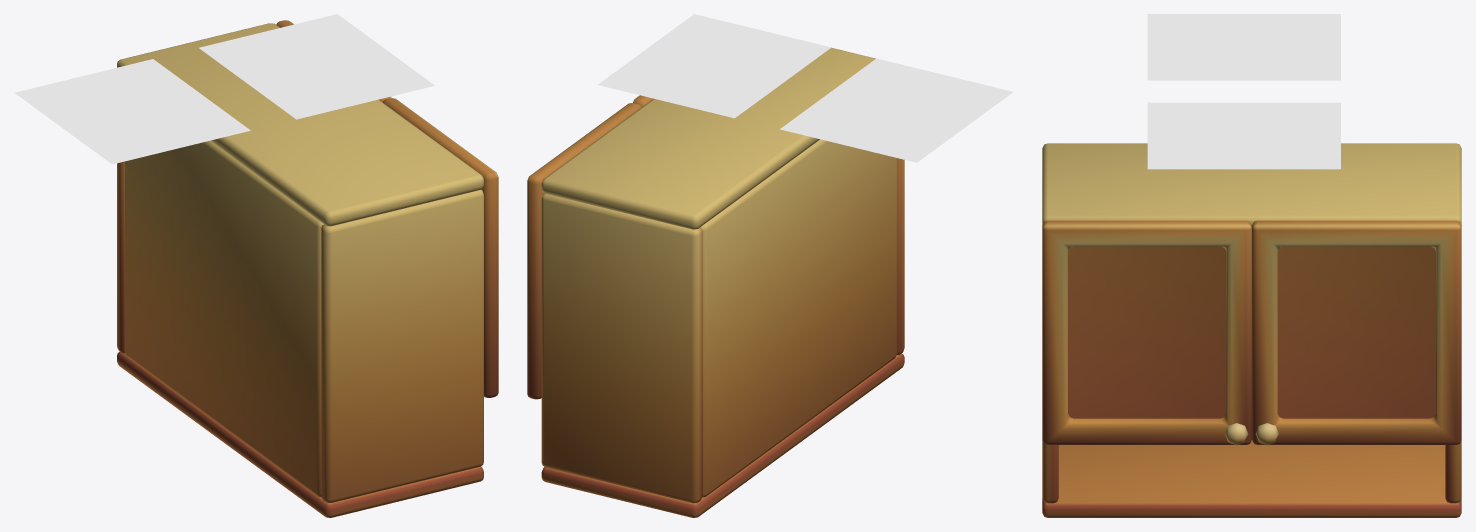
File: BathroomCabinet.fbx
3 views of the same model, side by side, from view 1: azimuth 30°, elevation 25°; view 2: azimuth 150°, elevation 25°; view 3: azimuth 270°, elevation 25° (orthographic).
Parts seen in each view (by area): view 1: BathroomCabinet, Mirror.R, Mirror.L, Door.L; view 2: BathroomCabinet, Mirror.L, Mirror.R, Door.R; view 3: BathroomCabinet, Door.R, Door.L, Mirror.L, Mirror.R.
Boxes of the visible parts, bbox=[...] form: BathroomCabinet: bbox=[117, 23, 483, 517]; Mirror.R: bbox=[14, 59, 250, 164]; Mirror.L: bbox=[199, 14, 434, 119]; Door.L: bbox=[383, 98, 498, 397]; BathroomCabinet: bbox=[541, 47, 904, 517]; Mirror.L: bbox=[598, 14, 831, 118]; Mirror.R: bbox=[780, 58, 1013, 162]; Door.R: bbox=[527, 103, 641, 399]; BathroomCabinet: bbox=[1042, 143, 1461, 517]; Door.R: bbox=[1252, 220, 1461, 445]; Door.L: bbox=[1042, 220, 1251, 445]; Mirror.L: bbox=[1147, 102, 1340, 169]; Mirror.R: bbox=[1147, 14, 1340, 80].
Bounding box in the file's own units: 1.17 × 1.2 × 1.27.
